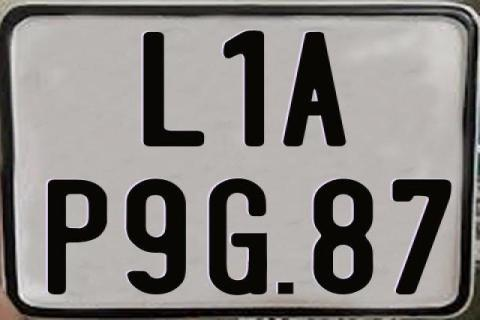0: (123, 178, 186, 296), (389, 179, 453, 295), (313, 179, 374, 297), (220, 30, 264, 148)
A: (284, 32, 346, 148)
G: (209, 179, 270, 297)
L: (143, 30, 204, 146)
P: (48, 178, 108, 296)
